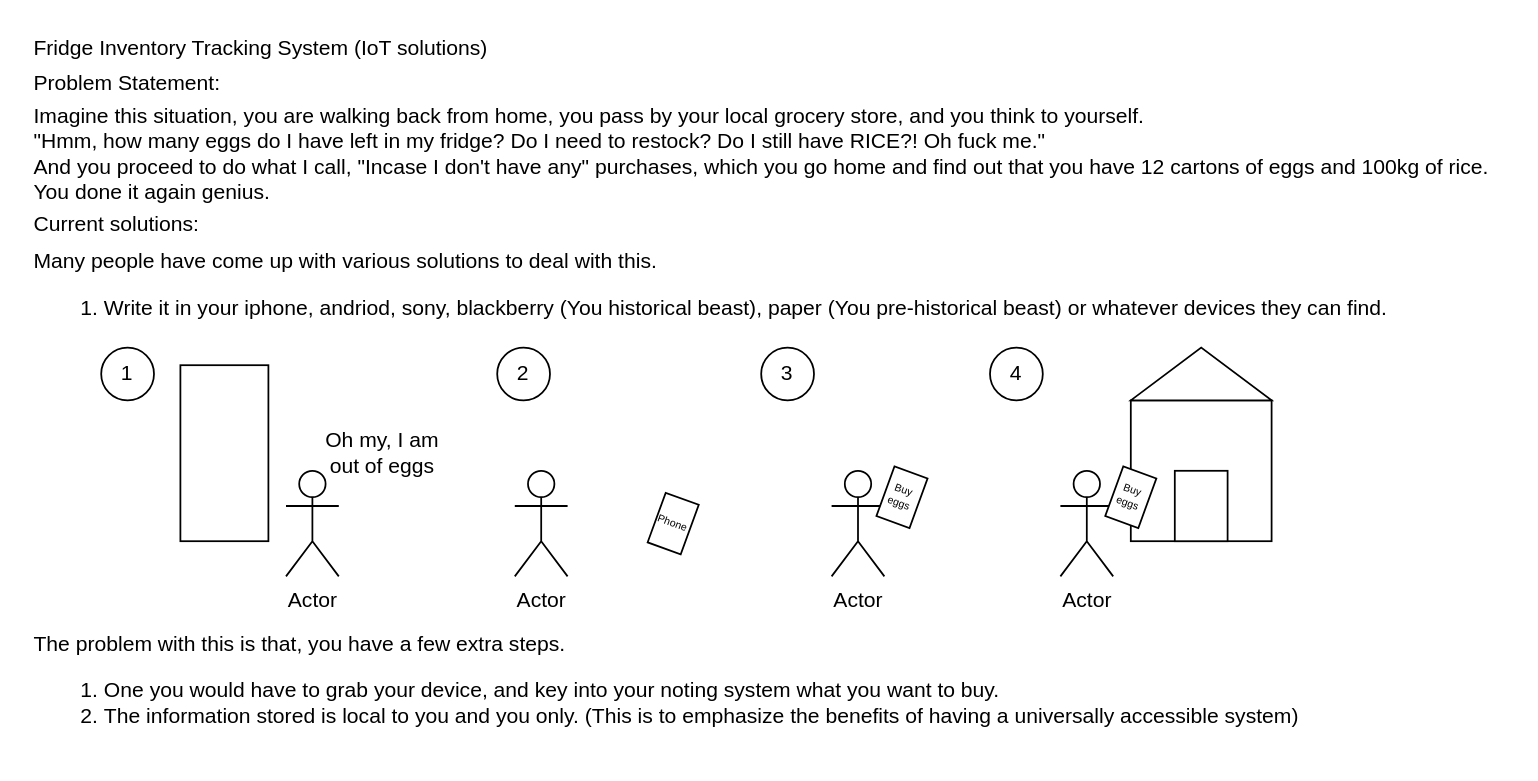
Some shapes in this 1538 by 781 pixel diagram are drawn without their labels. Here are the shapes that lost their labels. From the top down, the centre of each, then its label:
At point (1200, 373): "Supermarket".
At point (223, 452): "Fridge".
